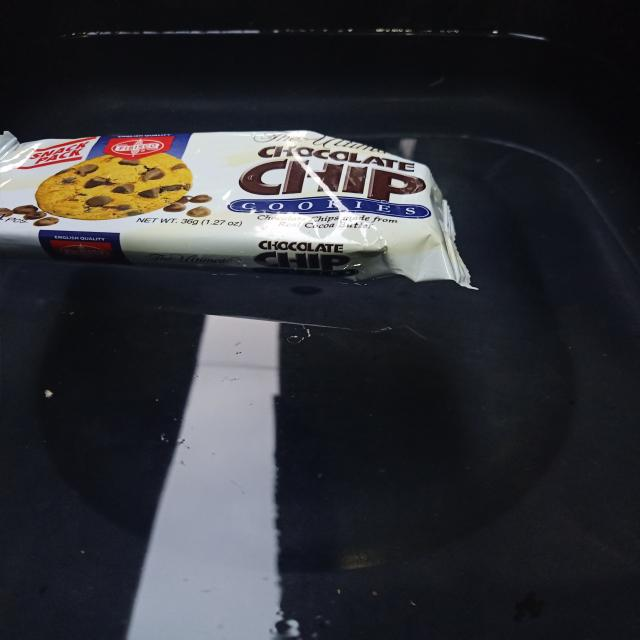Plastic Wrapper: (0, 112, 493, 301)
